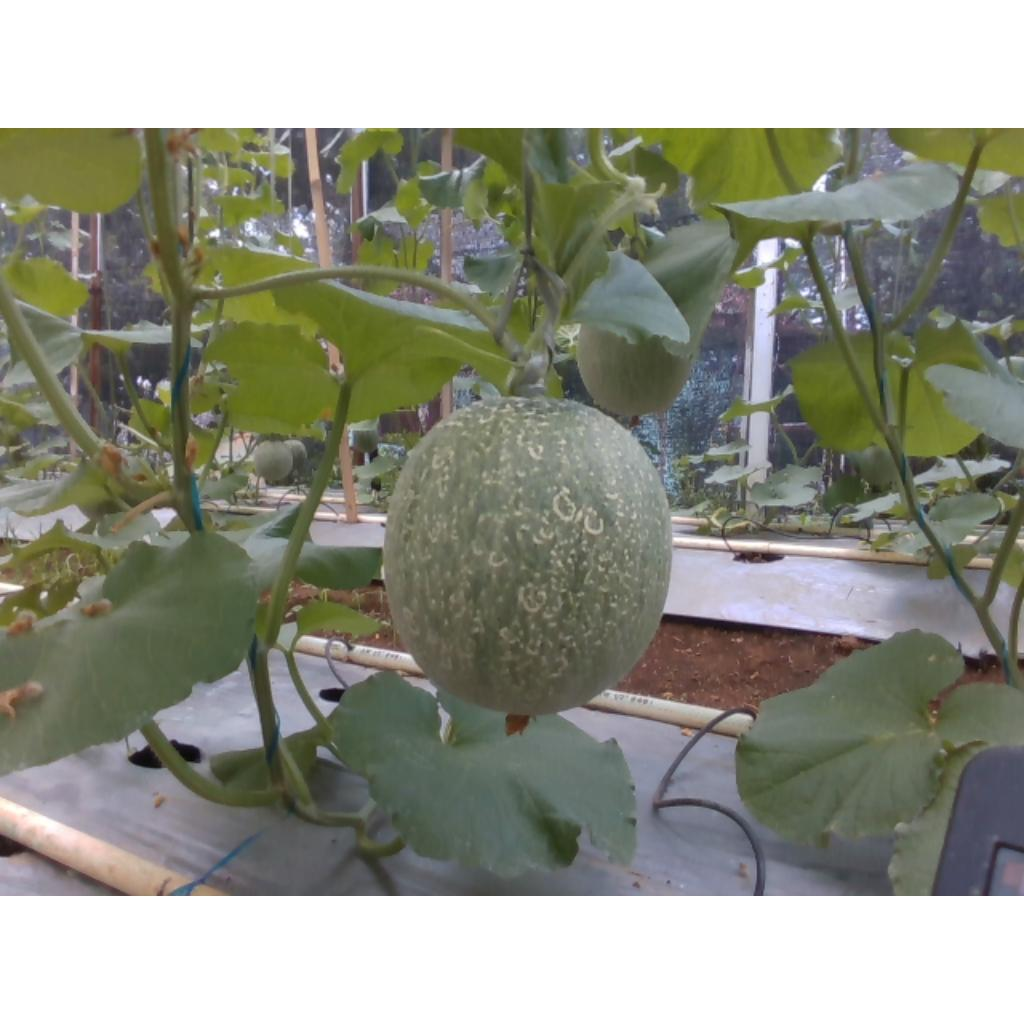melon: (384, 397, 672, 716)
